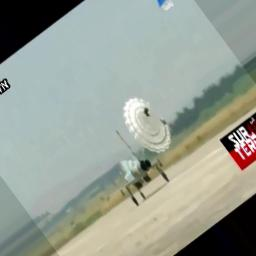Airplane: (109, 128, 172, 208)
